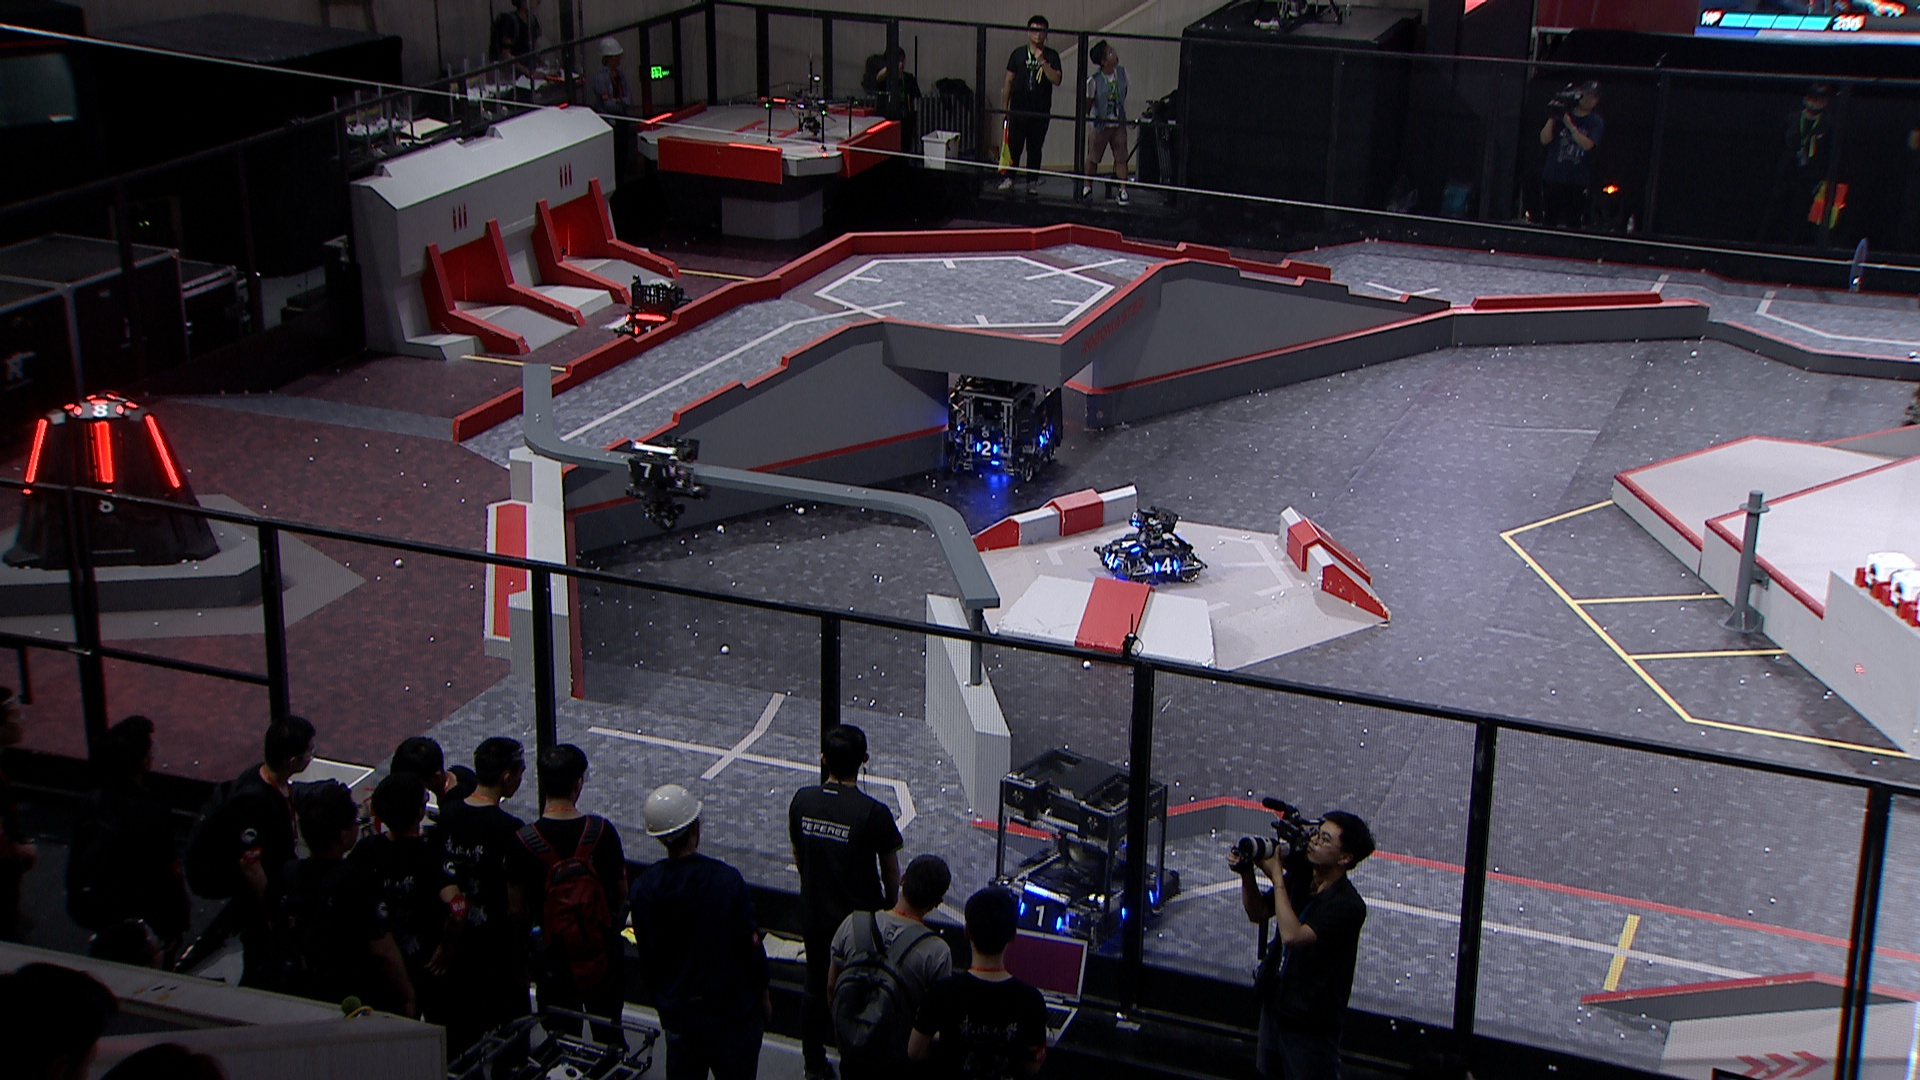armor: (142, 409, 186, 491), (20, 418, 51, 496), (88, 419, 116, 487), (1015, 901, 1067, 934), (69, 404, 127, 419), (622, 460, 669, 480), (90, 495, 125, 517), (972, 440, 1004, 458), (1150, 556, 1179, 575), (1116, 534, 1143, 553), (632, 323, 655, 339), (1102, 550, 1120, 571), (1036, 429, 1054, 447)
base: (3, 392, 222, 570)
car: (988, 746, 1179, 949), (945, 365, 1064, 484), (1092, 504, 1207, 585), (615, 276, 712, 356)
watcher: (621, 436, 708, 529)
